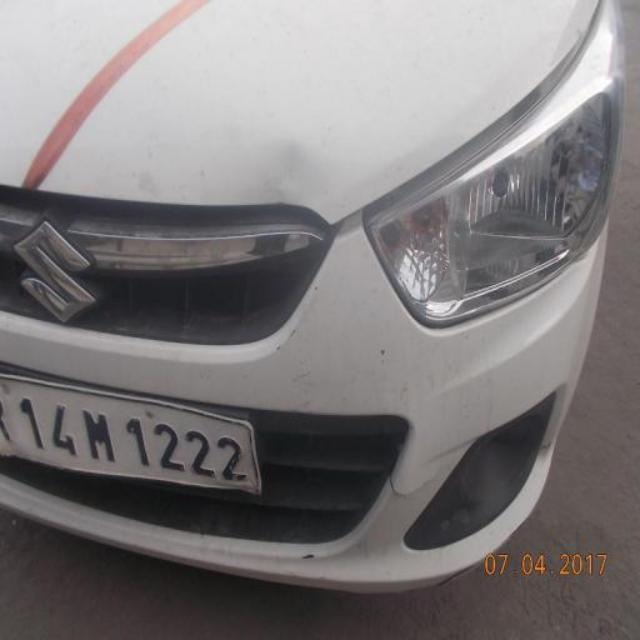scratch: (267, 131, 324, 206), (387, 465, 451, 503)
